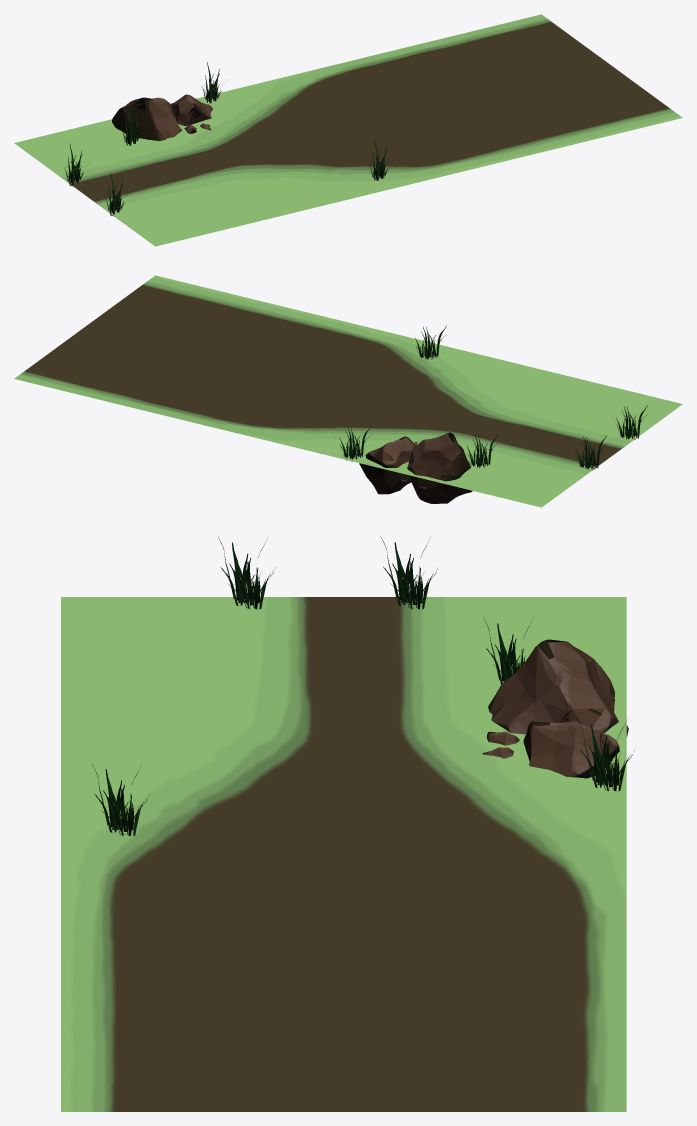
File: FieldStage.obj
3 views of the same model, one above another, from view 1: azimuth 30°, elevation 25°; view 2: azimuth 150°, elevation 25°; view 3: azimuth 270°, elevation 25° (orthographic). The views are drawn at different scales.
Parts seen in each view (by area): view 1: 平面_平面.004, 立方体, 平面.001, 立方体.001; view 2: 平面_平面.004, 立方体, 平面.001, 立方体.001; view 3: 平面_平面.004, 立方体, 平面.001, 立方体.001.
Boxes of the visible parts, x1,y1,x2,y2 form: 平面_平面.004: (14, 14, 682, 246); 立方体: (112, 97, 182, 140); 平面.001: (64, 62, 392, 216); 立方体.001: (170, 94, 212, 125); 平面_平面.004: (14, 275, 682, 507); 立方体: (407, 432, 472, 503); 平面.001: (340, 326, 647, 470); 立方体.001: (359, 436, 415, 494); 平面_平面.004: (61, 597, 626, 1111); 立方体: (488, 639, 628, 736); 平面.001: (92, 536, 634, 836); 立方体.001: (523, 721, 619, 778).
Size of the model in its own units: 4.37 by 0.5547 by 2.03.
Materials: 3 (3 with a texture image).
